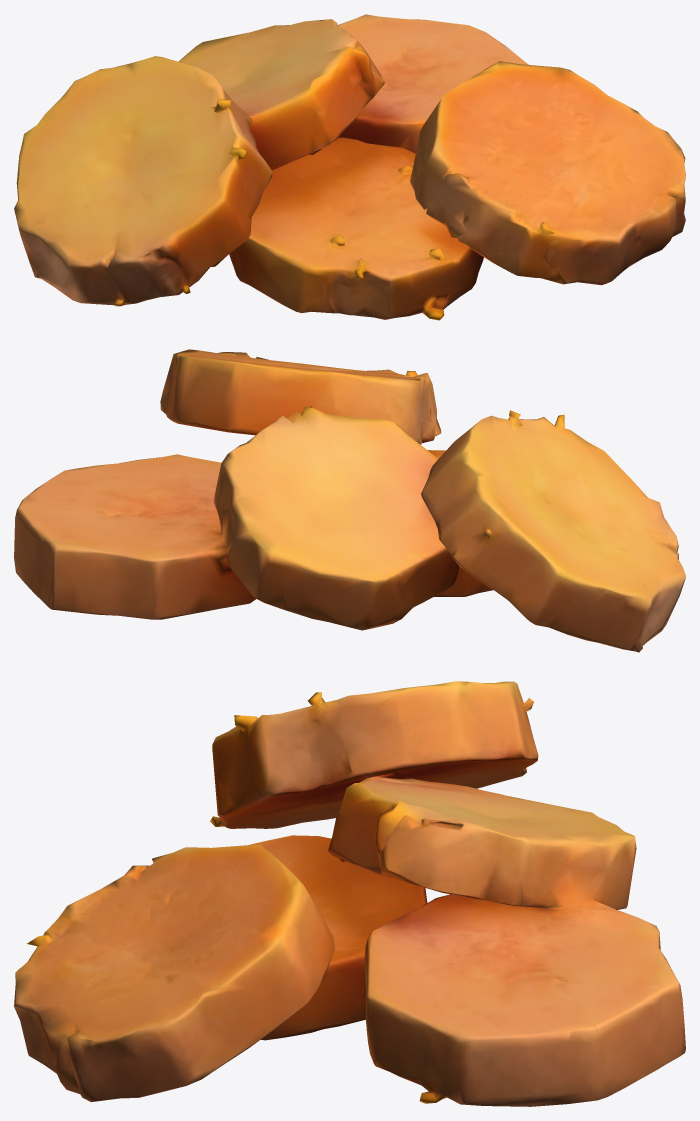
File: camote.glb
The picture shows the model from 3 angles, top to bottom: view 1: azimuth 30°, elevation 25°; view 2: azimuth 150°, elevation 25°; view 3: azimuth 270°, elevation 25°; orthographic projection. The views are drawn at different scales.
Visible parts, largest first — view 1: tripo_node_e2a1411e-c3cd-4580-b7c7-024fdf8d6f7a; view 2: tripo_node_e2a1411e-c3cd-4580-b7c7-024fdf8d6f7a; view 3: tripo_node_e2a1411e-c3cd-4580-b7c7-024fdf8d6f7a.
Boxes of the visible parts, x1,y1,x2,y2 form: tripo_node_e2a1411e-c3cd-4580-b7c7-024fdf8d6f7a: [14, 14, 685, 320]; tripo_node_e2a1411e-c3cd-4580-b7c7-024fdf8d6f7a: [14, 349, 685, 652]; tripo_node_e2a1411e-c3cd-4580-b7c7-024fdf8d6f7a: [14, 681, 685, 1106].
Bounding box in the file's own units: 1 × 0.3288 × 0.8528.
1 material, 1 textured.
